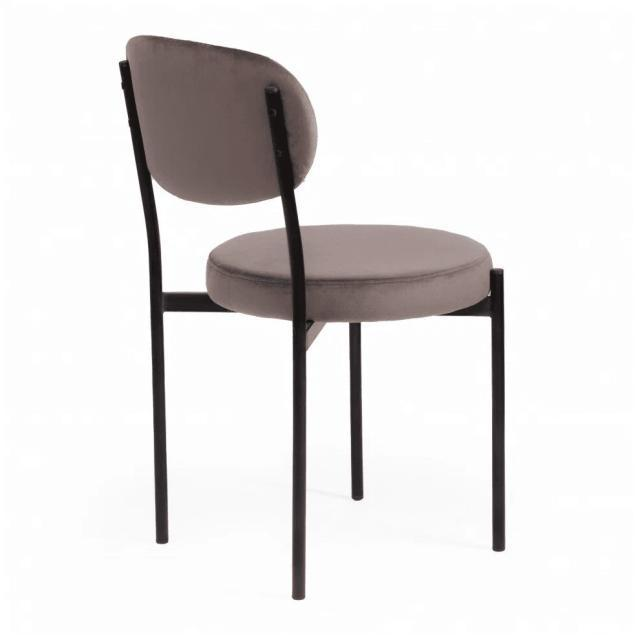chair: (117, 27, 514, 604), (118, 34, 511, 322)
